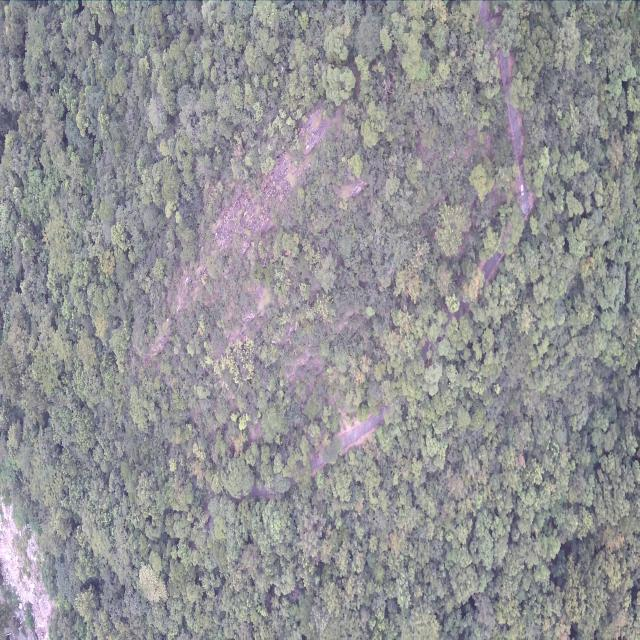drone: (280, 64, 285, 74)
